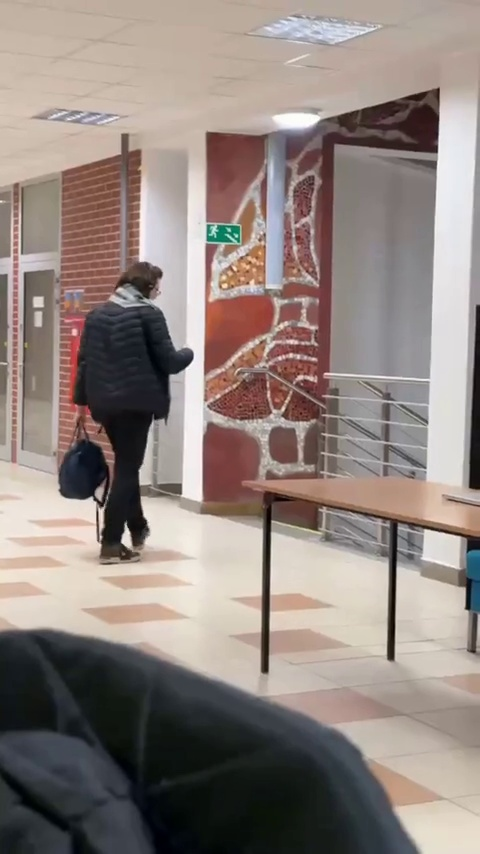no vest: (67, 253, 194, 563)
